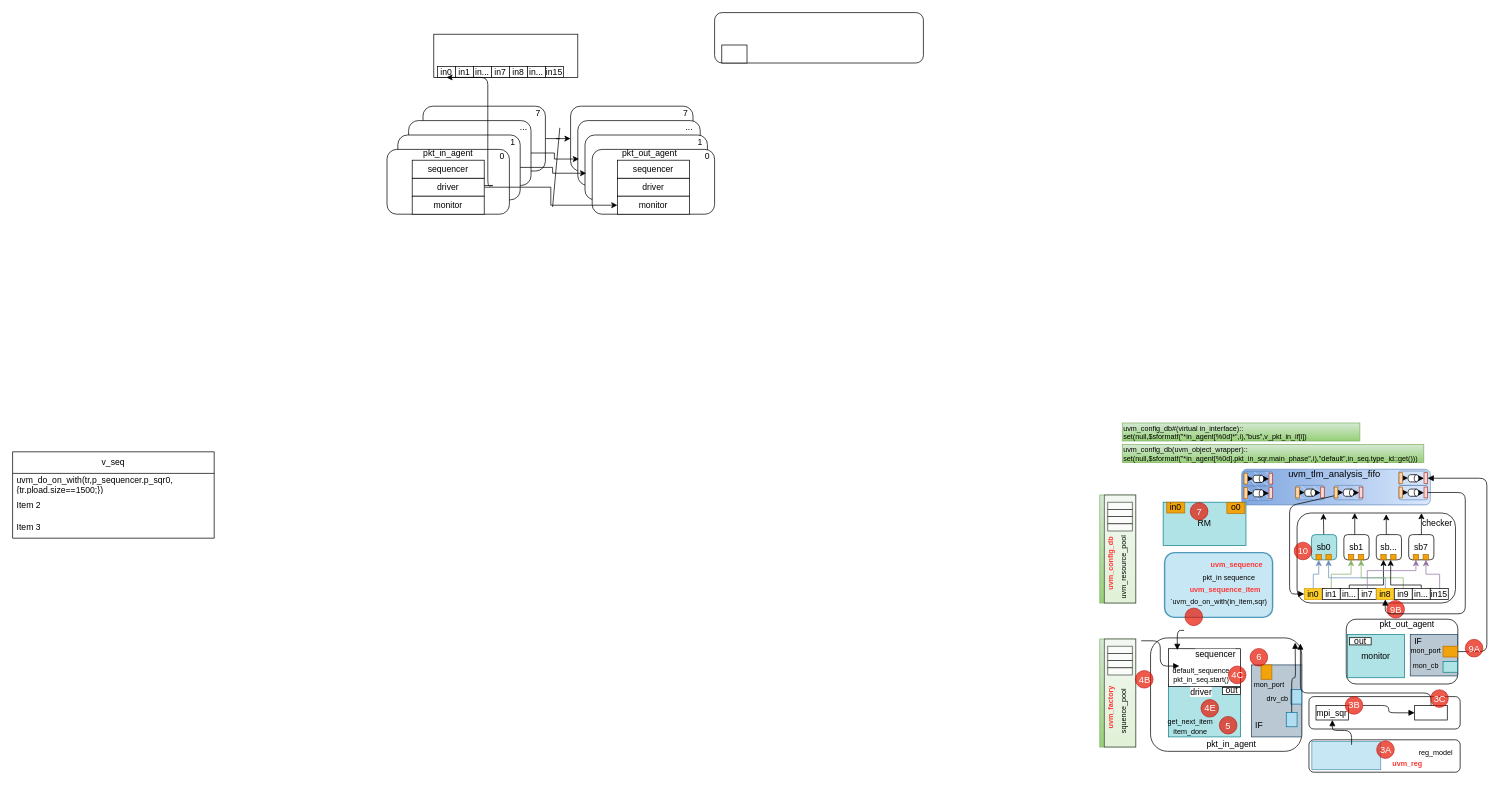
This 1506x785 diagram has some shape labels left out. Each missing label, with the centre of its shape:
4D: point (1193, 616)
adapter(user_item -> uvm_reg_item): point (1346, 755)
mpi_drv: point (1430, 712)
